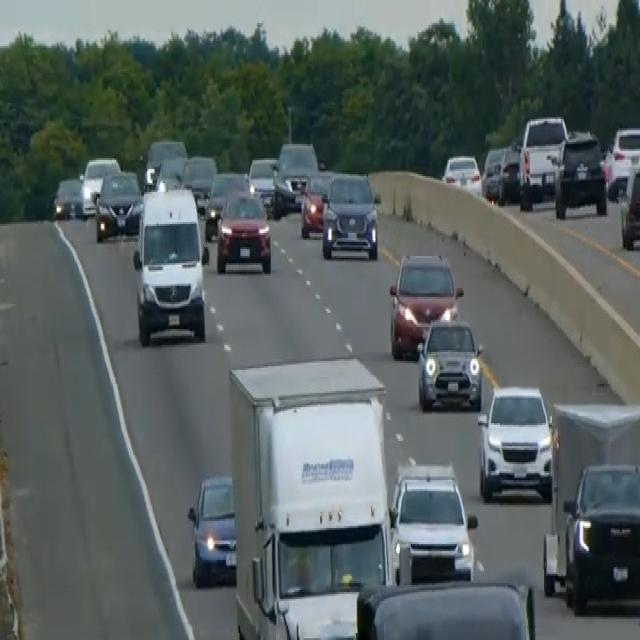car: (561, 458, 639, 612), (354, 576, 537, 638), (388, 461, 477, 583), (476, 382, 552, 502), (388, 249, 463, 359), (416, 314, 483, 410), (187, 471, 237, 587), (321, 169, 380, 259), (215, 186, 272, 274), (553, 128, 607, 219), (518, 112, 568, 206), (93, 167, 142, 242), (272, 139, 319, 215), (203, 169, 250, 240), (79, 155, 121, 215), (605, 125, 639, 199), (299, 167, 334, 238), (144, 137, 187, 188), (180, 153, 217, 210), (441, 151, 482, 197), (619, 158, 639, 251), (247, 154, 278, 212), (497, 144, 521, 204), (481, 144, 507, 199), (52, 176, 83, 220), (155, 153, 186, 188)
lorry: (227, 352, 394, 638)
minibus: (130, 180, 209, 346)
